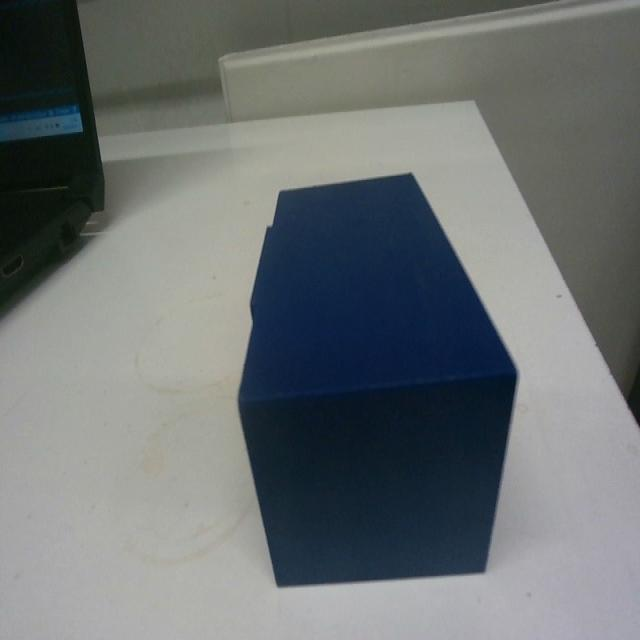Blue Cuboid: (235, 168, 520, 587)
